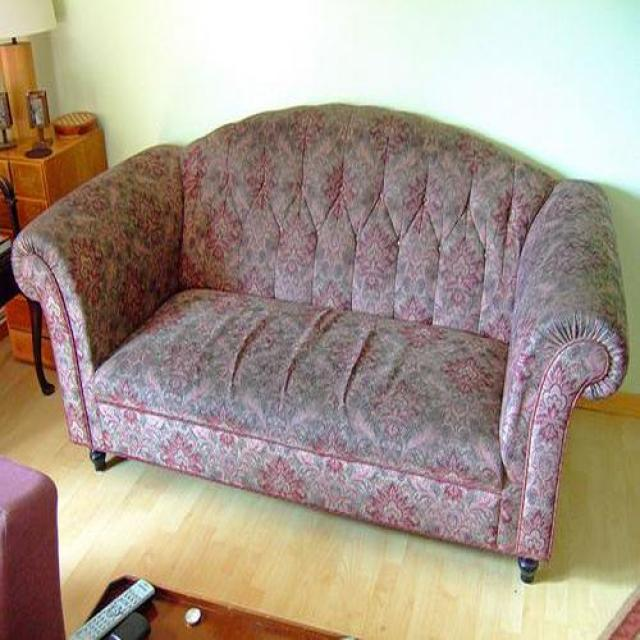sofa: (10, 104, 630, 584)
